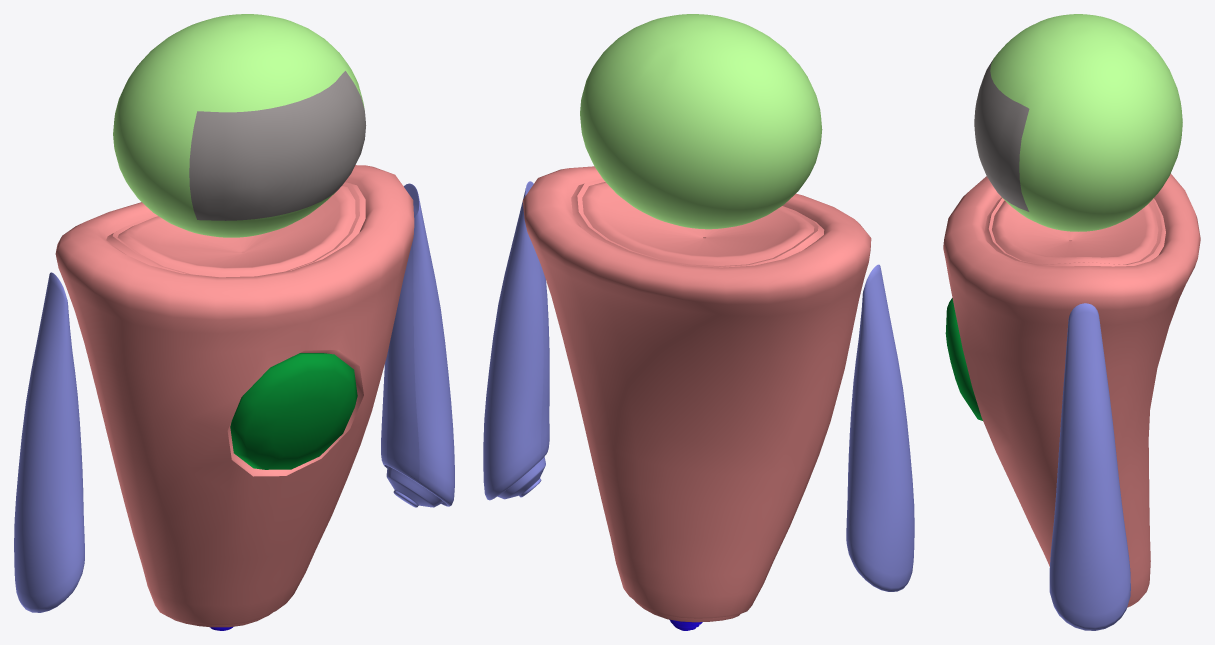
Rendered from Player.FBX.
The picture shows the model from 3 angles, left to right: view 1: azimuth 30°, elevation 25°; view 2: azimuth 150°, elevation 25°; view 3: azimuth 270°, elevation 25°; orthographic projection. The views are drawn at different scales.
Parts seen in each view (by area): view 1: body.001, tete.001, righthand.001, righthand.002, Object; view 2: body.001, tete.001, righthand.001, righthand.002; view 3: body.001, tete.001, righthand.002, Object.
Part boxes in pixels (x1,y1,x2,y2): body.001: (55,165,414,630); tete.001: (113,14,366,237); righthand.001: (14,272,84,612); righthand.002: (381,183,454,507); Object: (230,353,357,469); body.001: (522,166,871,630); tete.001: (580,14,822,229); righthand.001: (846,264,914,591); righthand.002: (483,181,549,500); body.001: (943,173,1200,607); tete.001: (974,14,1182,231); righthand.002: (1049,303,1130,630); Object: (945,298,982,420).
Bounding box in the file's own units: 75.38 × 103 × 40.92.
